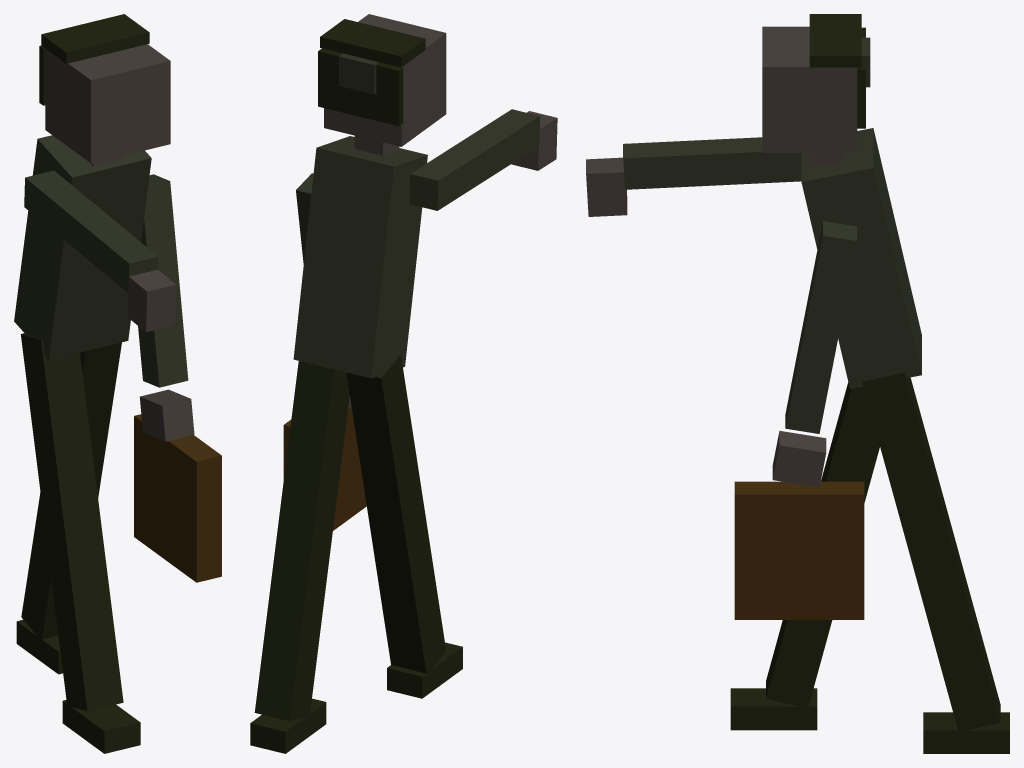
Rendered from SM_ZombiFino_v11_Bolsa_LOD0.fbx.
3 renders of one model, left to right at view 1: azimuth 30°, elevation 25°; view 2: azimuth 150°, elevation 25°; view 3: azimuth 270°, elevation 25°, orthographic. The views are drawn at different scales.
Visible parts, largest first — view 1: SM_zombi_fino_v11_LOD0; view 2: SM_zombi_fino_v11_LOD0; view 3: SM_zombi_fino_v11_LOD0.
Part boxes in pixels (<box>): SM_zombi_fino_v11_LOD0: <box>14,14,221,753</box>; SM_zombi_fino_v11_LOD0: <box>250,14,557,753</box>; SM_zombi_fino_v11_LOD0: <box>586,14,1009,753</box>.
Bounding box in the file's own units: 0.405 × 1.78 × 0.9796.
